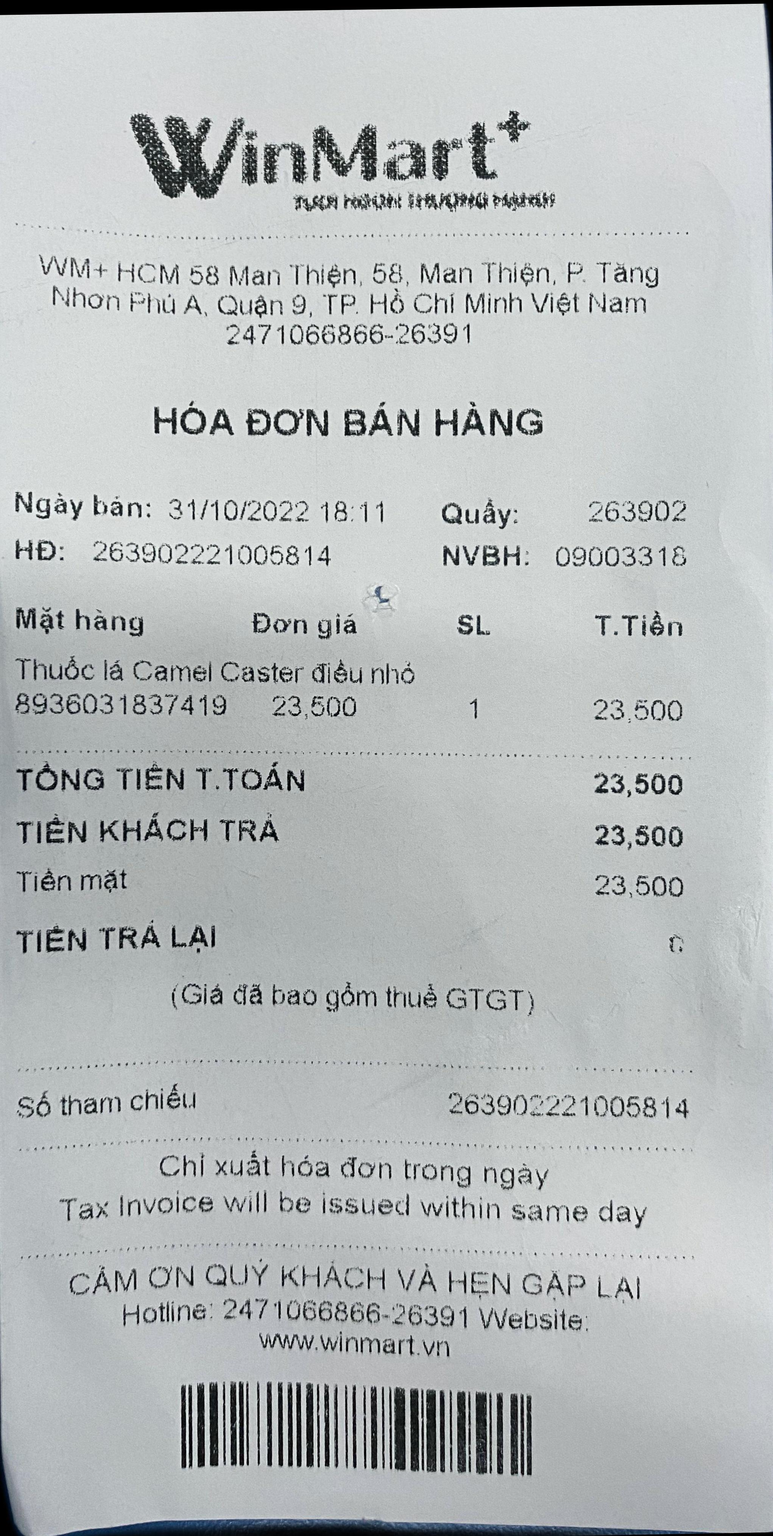Date: (156, 488, 319, 534)
Store_Name: (93, 91, 594, 229)
Total_Amount: (0, 752, 702, 814)
